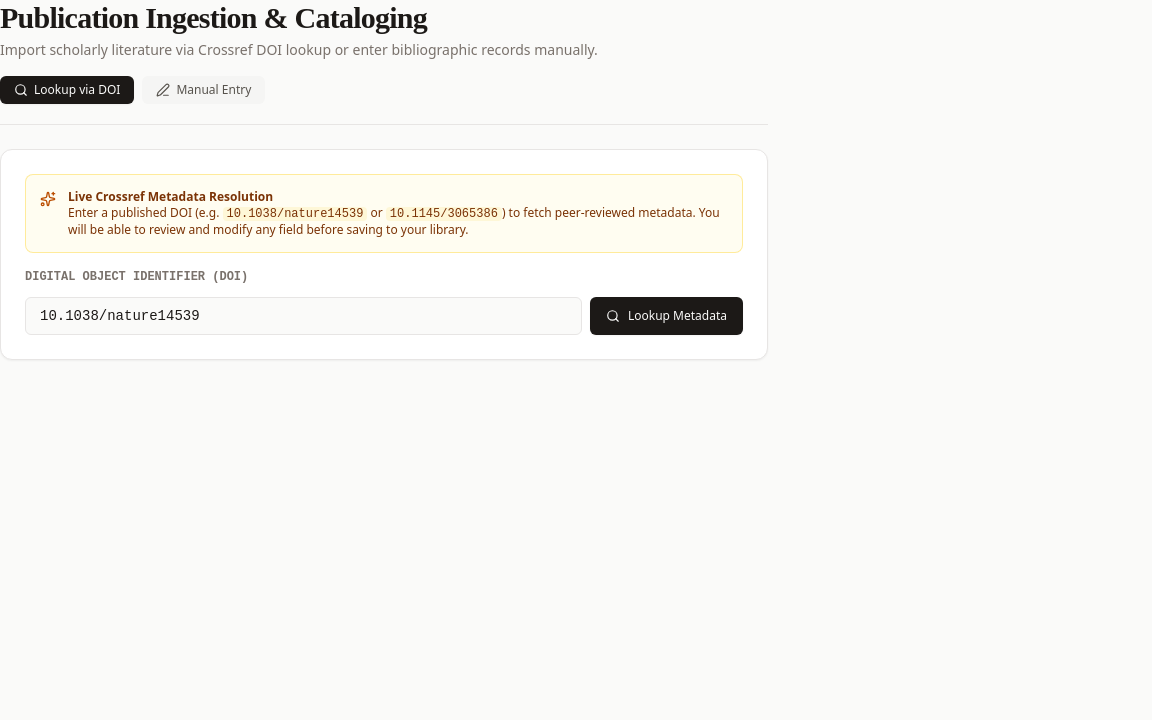
Scenario: ImportDoiPage (DOI Import & Manual Entry) › performs successful DOI metadata resolution and populates the review form
Replace the text in the field with placeholder "10.xxxx/xxxxx" with "10.48550/arXiv.1706.03762" at (304, 316), box top-left (25, 297), bottom-right (582, 335)
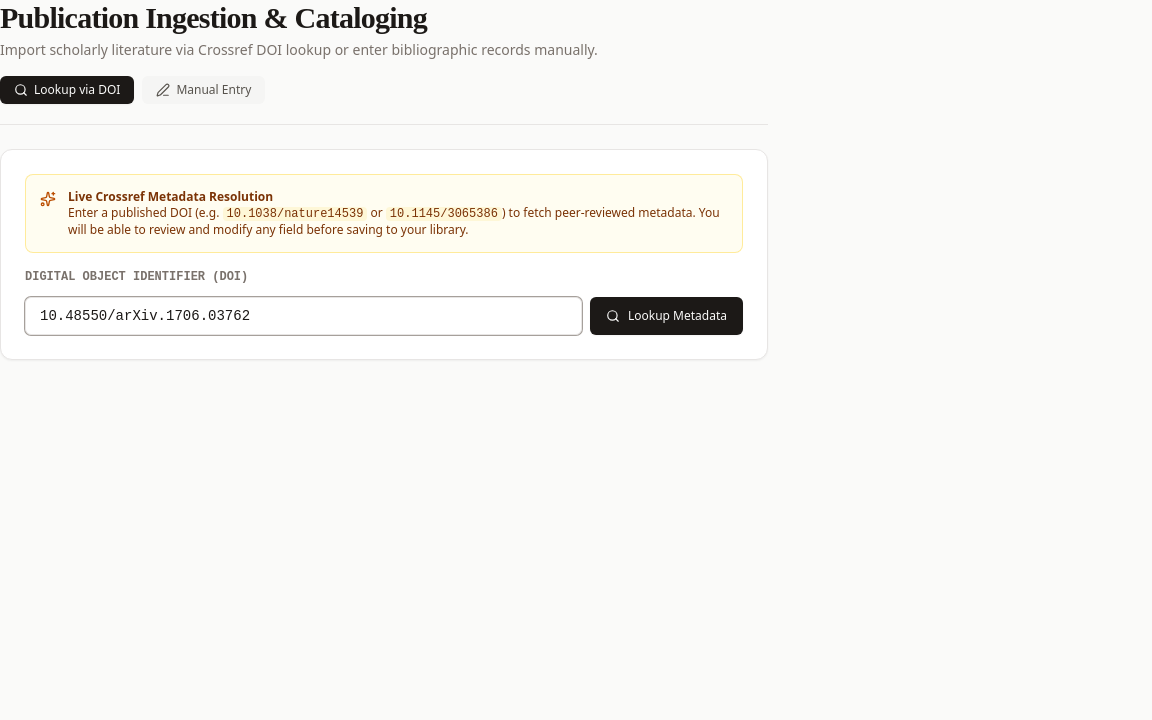
Click the button "Lookup Metadata" at (666, 316), box top-left (590, 297), bottom-right (743, 335)
(page scrolled)
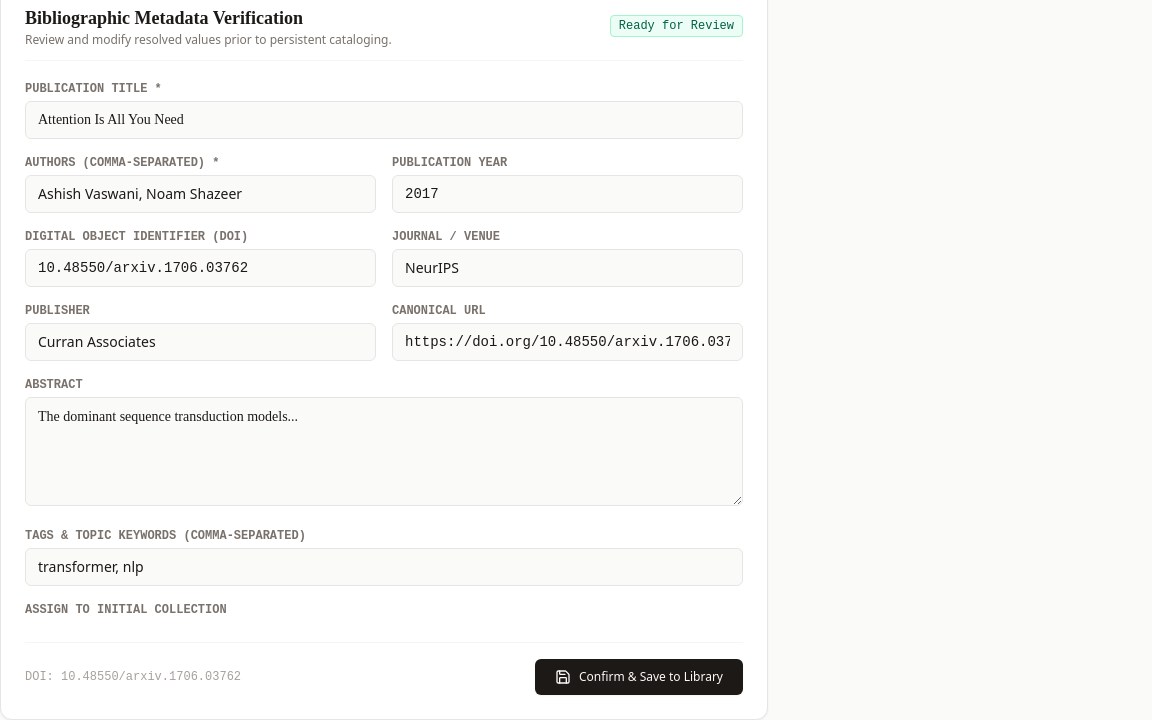
Check: the heading "Bibliographic Metadata Verification" is shown, box top-left (25, 8), bottom-right (303, 28)
Check: the field showing "Attention Is All You Need" below "Publication Title *" is shown, box top-left (25, 101), bottom-right (743, 139)
Check: the field showing "Ashish Vaswani, Noam Shazeer" below "Authors (comma-separated) *" is shown, box top-left (25, 175), bottom-right (376, 213)
